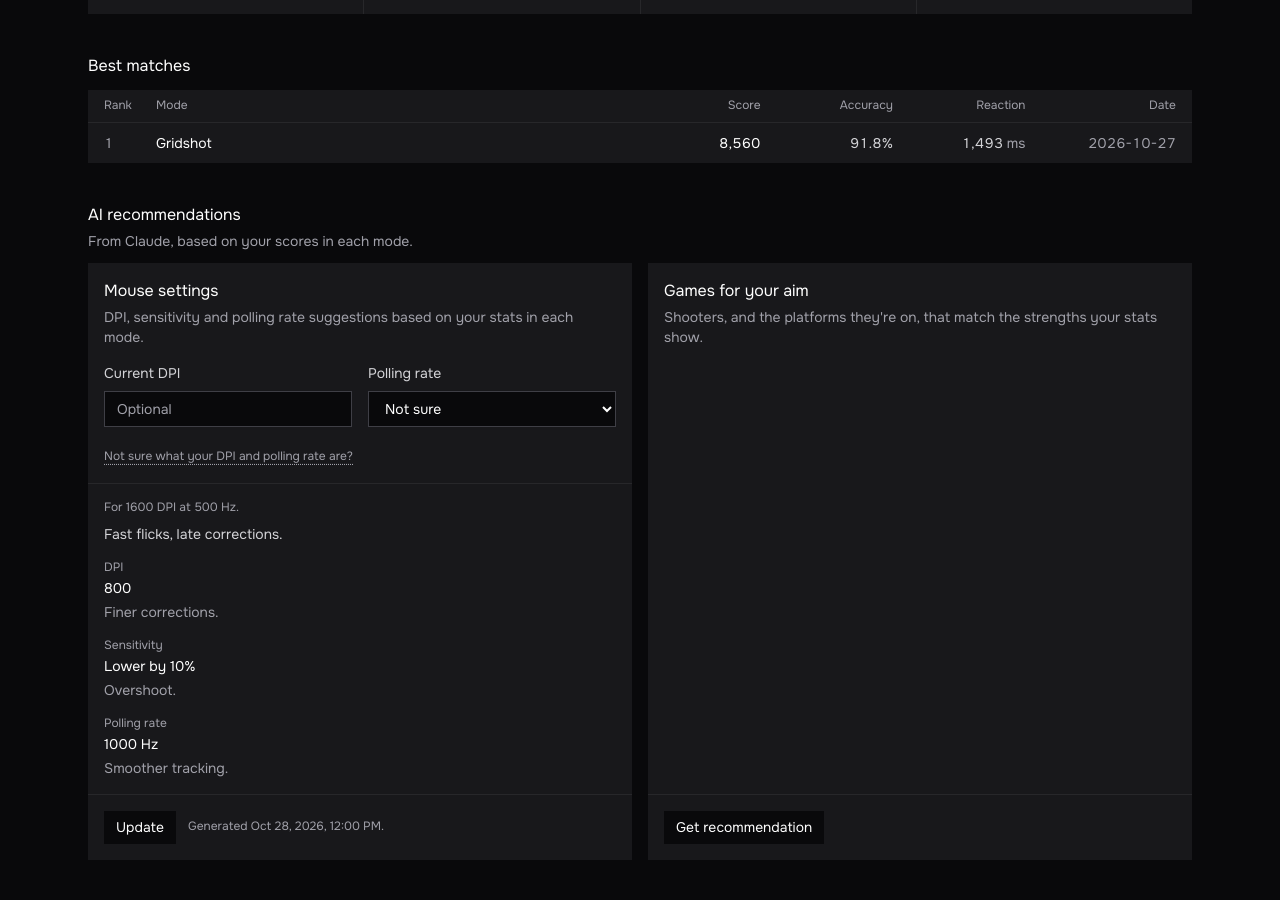
Test: Profile › puts a fresh answer above the saved one and keeps both
The width and height of the screenshot is (1280, 900).
(page scrolled)
Expected: the text "Fast flicks, late corrections." is shown, x1=104 y1=525 x2=283 y2=543
# The hardware panel comes first.
Click the button "Update".
click(140, 827)  # box x1=104 y1=811 x2=176 y2=844
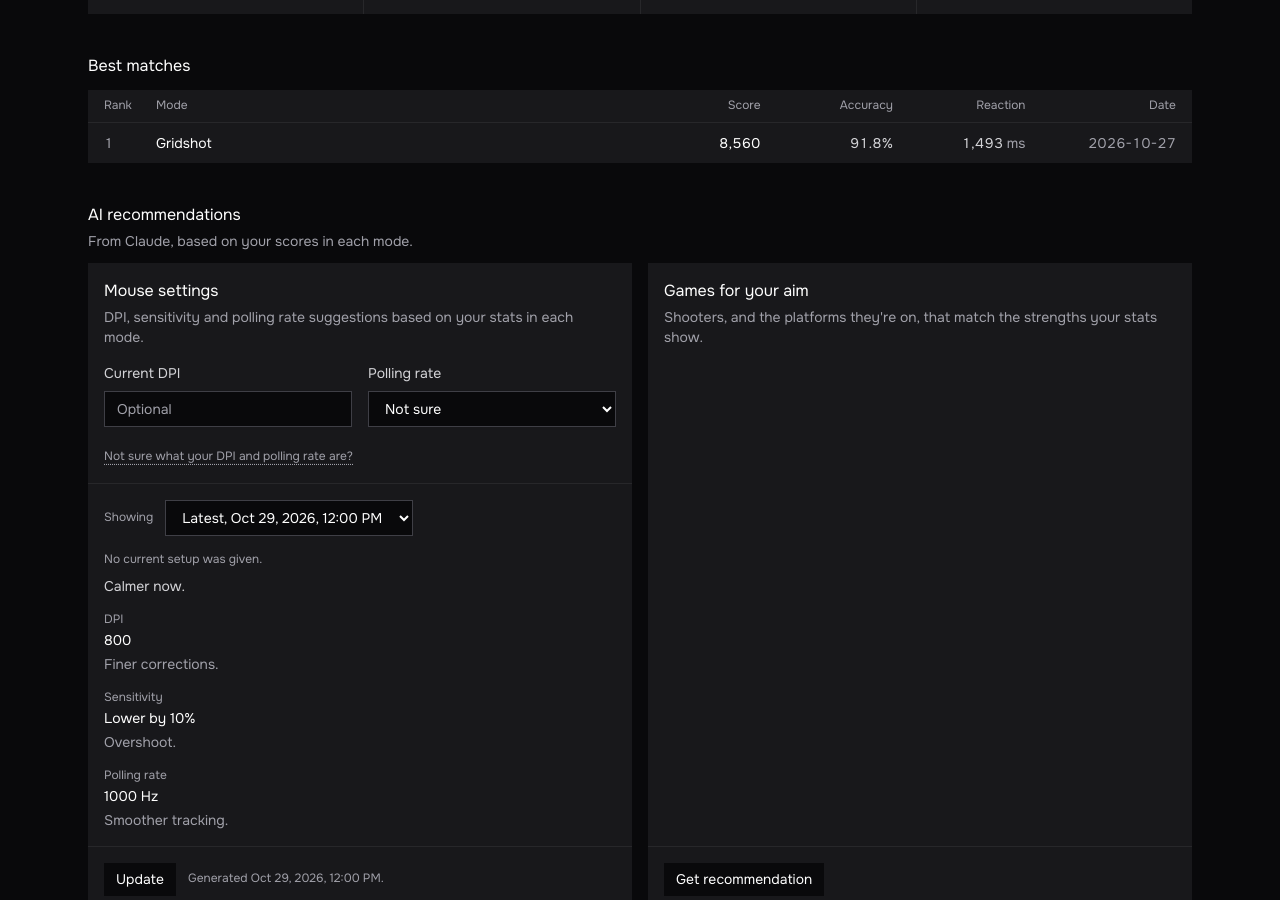
Result: the text "Calmer now." is shown at x1=104 y1=577 x2=185 y2=595
Result: the text "No current setup was given." is shown at x1=104 y1=551 x2=262 y2=567
